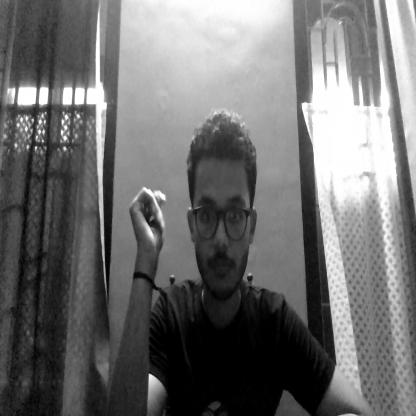Normal: (184, 104, 260, 303)
